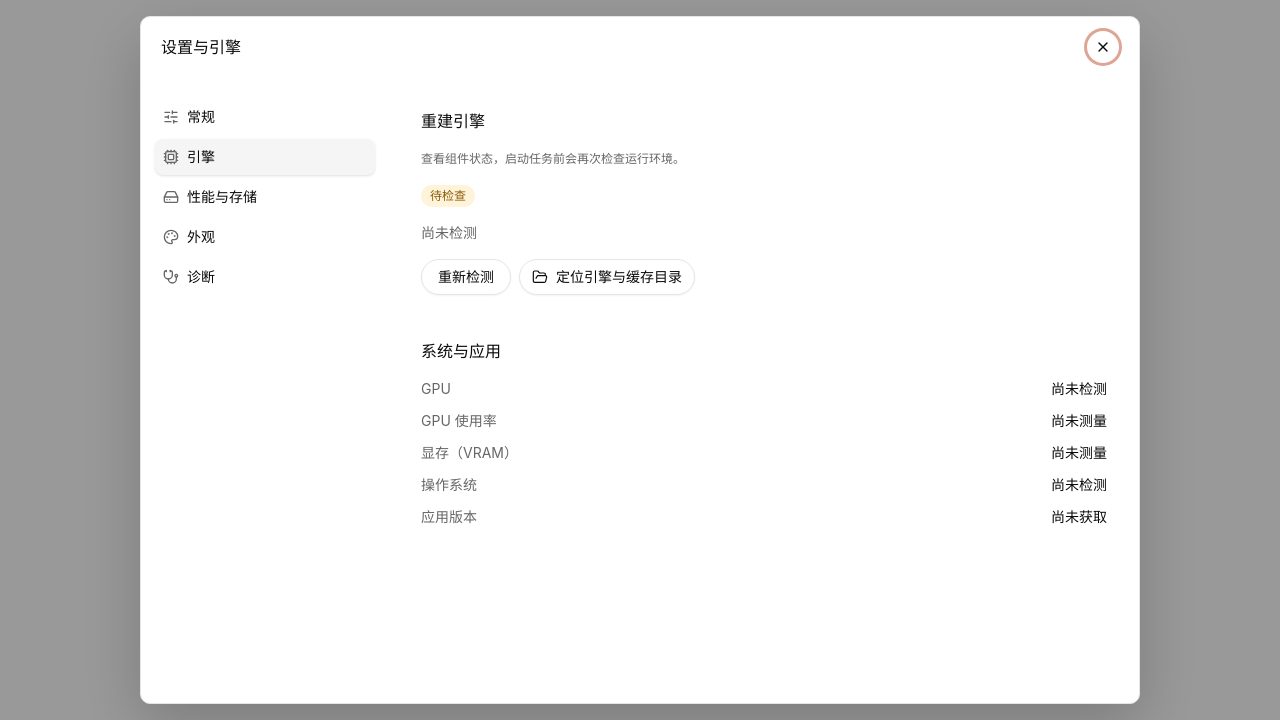
Test: SettingsDrawer › switches language live without saving engine settings or closing the drawer
Click the tab "外观" at (265,237), box x1=155 y1=219 x2=375 y2=255
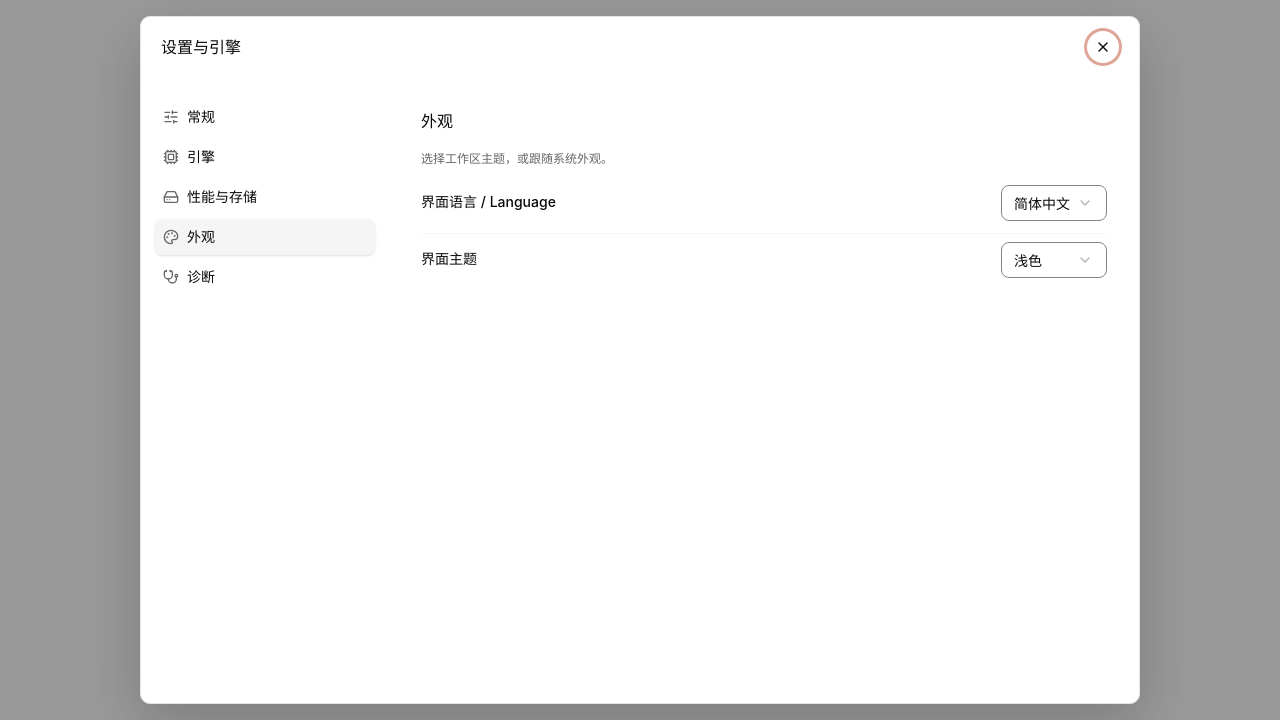
Select "English" in the dropdown labelled "界面语言 / Language" at (1054,202), box x1=1001 y1=184 x2=1107 y2=220
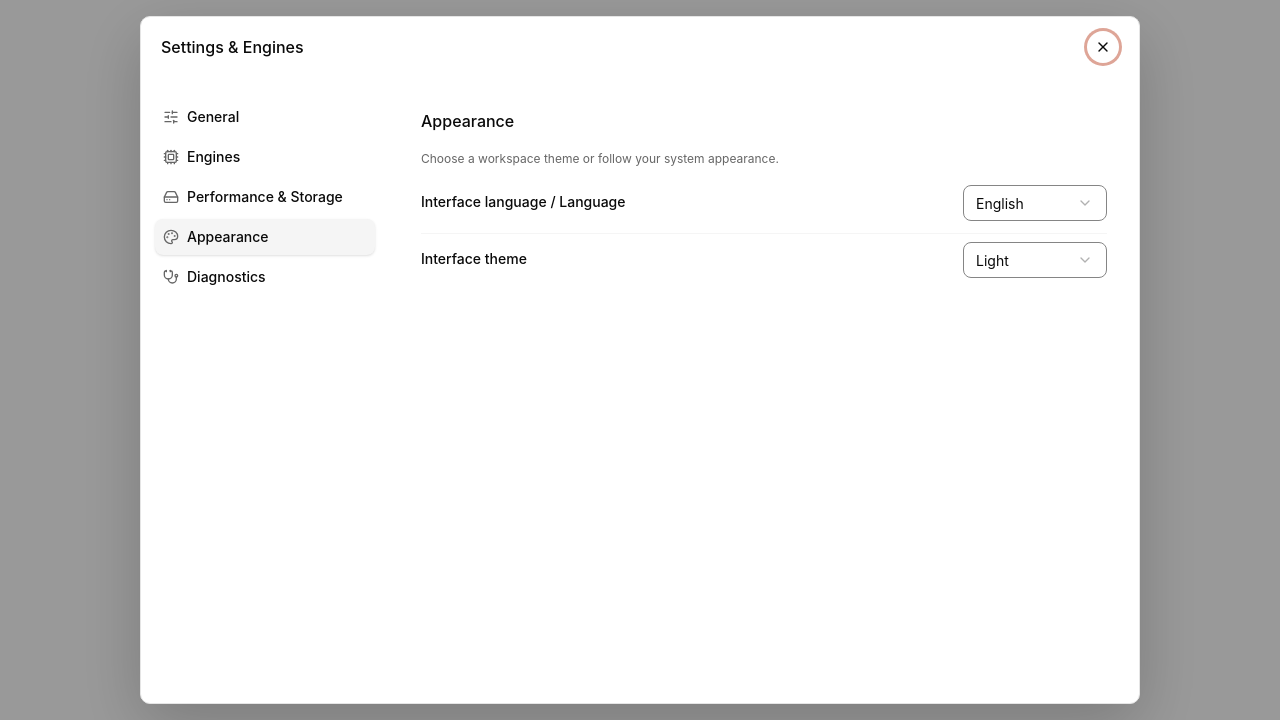
Check: the tab "General" is shown, box x1=155 y1=99 x2=375 y2=135
Select "简体中文" in the dropdown labelled "Interface language / Language" at (1035,202), box x1=963 y1=184 x2=1107 y2=220
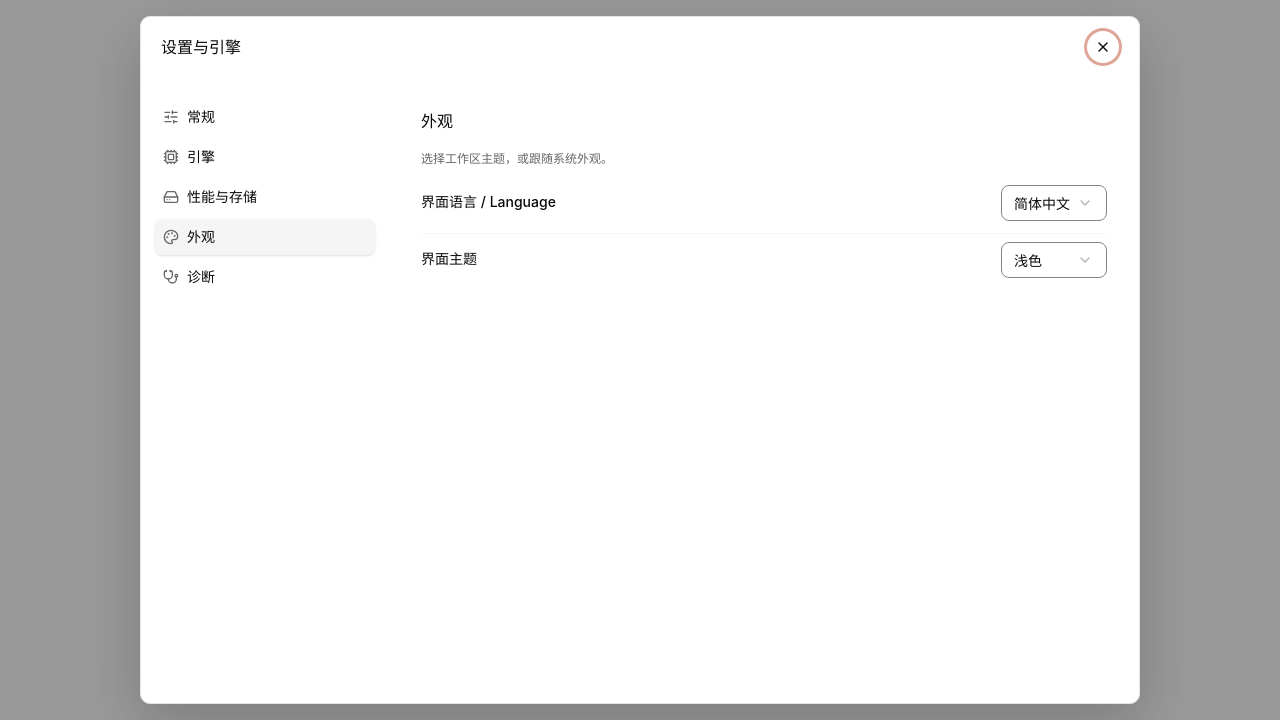
Check: the tab "外观" is selected, box x1=155 y1=219 x2=375 y2=255
Click the tab "常规" at (265,117), box x1=155 y1=99 x2=375 y2=135
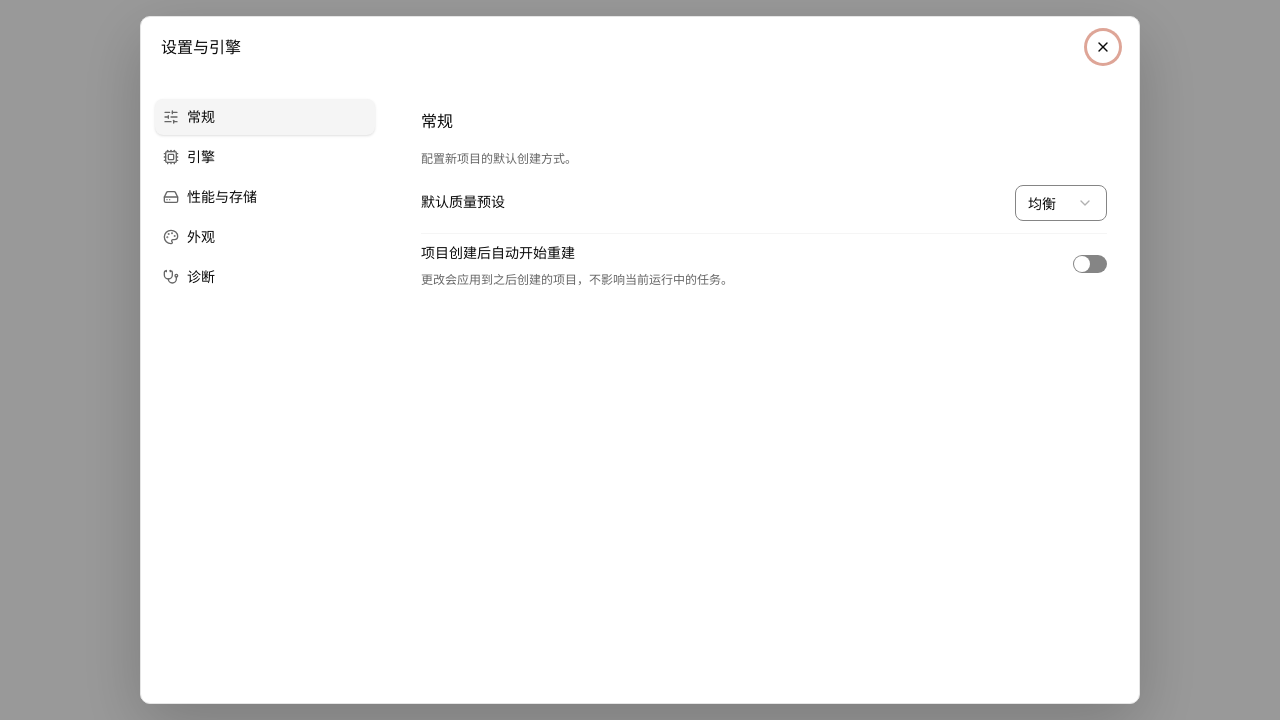
Check: the text "默认质量预设" is shown, box x1=421 y1=191 x2=505 y2=214
